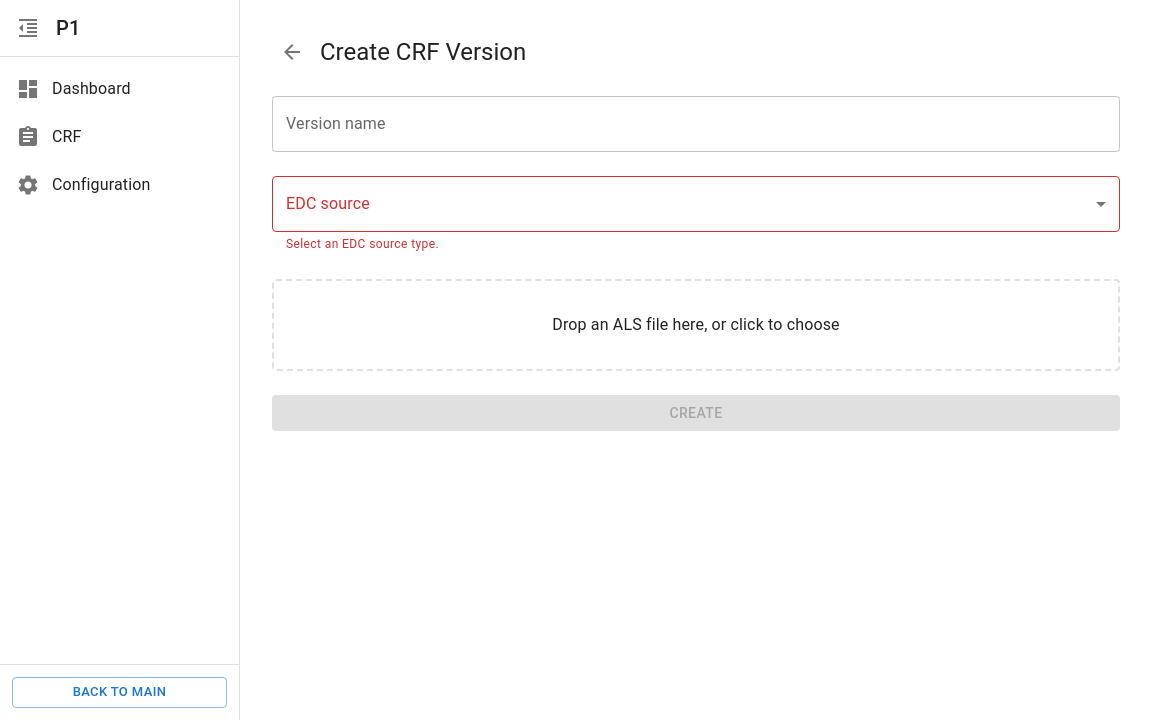
Test: CreateCrfVersionPage — submit gating › submit enabled? file only
Click the button with test id "als-dropzone": (696, 325) [272, 279, 1120, 371]
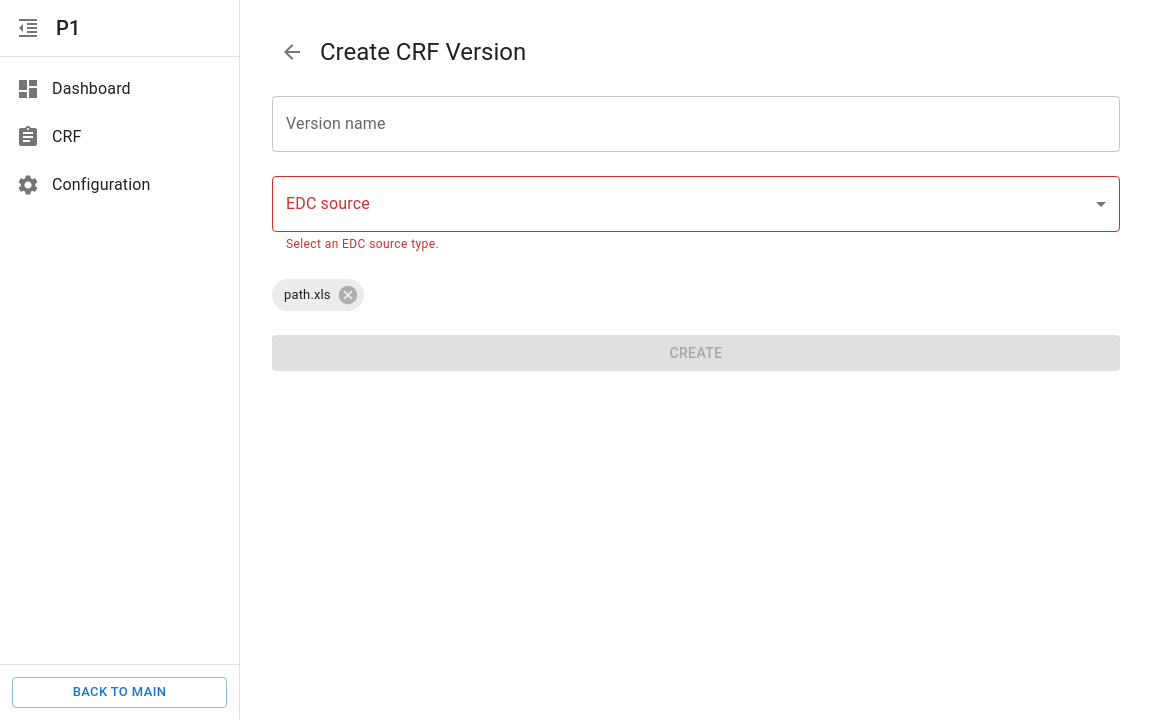
Check: the button "Create" is disabled, box [272, 335, 1120, 371]
Check: the text "path.xls" is shown, box [284, 287, 331, 302]
